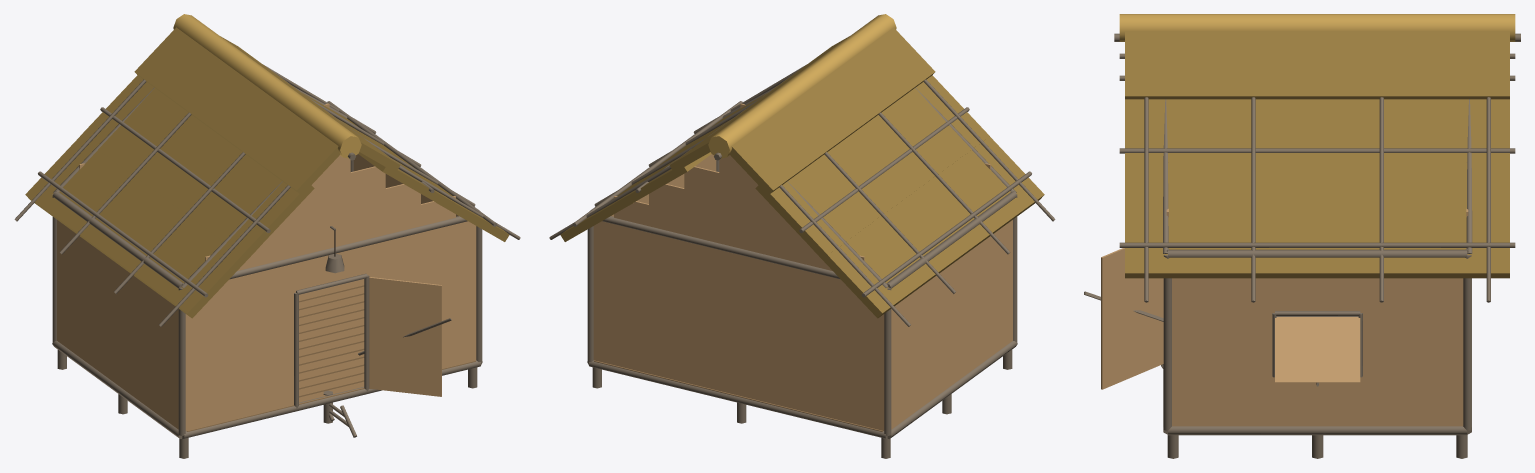
The model's file is village-hut.glb.
3 views of the same model, side by side, from view 1: azimuth 30°, elevation 25°; view 2: azimuth 150°, elevation 25°; view 3: azimuth 270°, elevation 25° (orthographic). The views are drawn at different scales.
Parts seen in each view (by area): view 1: Mesh_Thatch_R_2, Mesh_Wall_Front_R, Mesh_Wall_Right, Mesh_Thatch_R_1, Mesh_Thatch_R_3, Mesh_Wall_Front_L, Mesh_Door_Leaf, Mesh_Gable_F_1, Mesh_Ridge_Cap, Mesh_Gable_F_2, Mesh_Gable_F_3, Mesh_Wall_Front_Above (+33 smaller); view 2: Mesh_Wall_Back, Mesh_Thatch_R_2, Mesh_Wall_Right, Mesh_Thatch_R_1, Mesh_Thatch_R_3, Mesh_Gable_B_1, Mesh_Ridge_Cap, Mesh_Gable_B_2, Mesh_Gable_B_3, Mesh_Frame_Back, Mesh_TopBeam_Back, Mesh_Thatch_L_1 (+15 smaller); view 3: Mesh_Thatch_L_2, Mesh_Thatch_L_1, Mesh_Thatch_L_3, Mesh_Wall_Left_B, Mesh_Wall_Left_F, Mesh_Ridge_Cap, Mesh_Door_Leaf, Mesh_Window_Leaf, Mesh_Wall_Left_Under, Mesh_Frame_Left, Mesh_Wall_Left_Above, Mesh_TopBeam_Left (+10 smaller).
Boxes of the visible parts, box(x1,y1,x2,y2) form: Mesh_Thatch_R_2: box(80, 75, 314, 259); Mesh_Wall_Front_R: box(185, 263, 295, 430); Mesh_Wall_Right: box(57, 220, 178, 429); Mesh_Thatch_R_1: box(25, 137, 259, 318); Mesh_Thatch_R_3: box(134, 27, 340, 195); Mesh_Wall_Front_L: box(366, 221, 476, 368); Mesh_Door_Leaf: box(369, 277, 441, 396); Mesh_Gable_F_1: box(205, 196, 455, 270); Mesh_Ridge_Cap: box(173, 14, 361, 158); Mesh_Gable_F_2: box(263, 184, 420, 243); Mesh_Gable_F_3: box(293, 166, 385, 211); Mesh_Wall_Front_Above: box(296, 246, 366, 290); Mesh_Wall_Back: box(593, 221, 884, 430); Mesh_Thatch_R_2: box(755, 75, 989, 259); Mesh_Wall_Right: box(891, 220, 1012, 429); Mesh_Thatch_R_1: box(810, 137, 1044, 318); Mesh_Thatch_R_3: box(729, 27, 935, 195); Mesh_Gable_B_1: box(614, 196, 864, 270); Mesh_Ridge_Cap: box(708, 14, 896, 158); Mesh_Gable_B_2: box(649, 184, 806, 243); Mesh_Gable_B_3: box(684, 166, 776, 211); Mesh_Frame_Back: box(589, 360, 887, 438); Mesh_TopBeam_Back: box(602, 216, 887, 284); Mesh_Thatch_L_1: box(560, 100, 755, 241); Mesh_Thatch_L_2: box(1125, 99, 1509, 188); Mesh_Thatch_L_1: box(1125, 188, 1509, 278); Mesh_Thatch_L_3: box(1125, 31, 1509, 99); Mesh_Wall_Left_B: box(1360, 278, 1463, 426); Mesh_Wall_Left_F: box(1172, 278, 1274, 426); Mesh_Ridge_Cap: box(1119, 14, 1515, 41); Mesh_Door_Leaf: box(1101, 248, 1163, 389); Mesh_Window_Leaf: box(1275, 317, 1360, 382); Mesh_Wall_Left_Under: box(1275, 382, 1360, 426); Mesh_Frame_Left: box(1168, 426, 1467, 435); Mesh_Wall_Left_Above: box(1275, 278, 1360, 310); Mesh_TopBeam_Left: box(1168, 249, 1467, 257).
Bounding box in the file's own units: 4.67 × 3.69 × 4.08.
